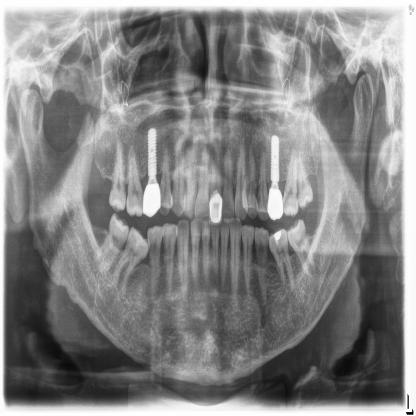ITI: (146, 126, 158, 178), (270, 132, 280, 184)
